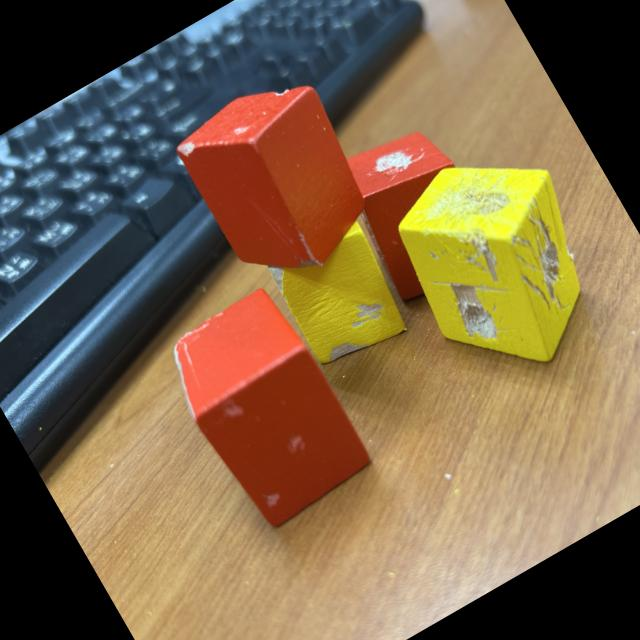broken: (371, 124, 631, 401), (153, 281, 380, 536), (168, 63, 392, 300), (326, 113, 505, 309), (254, 196, 419, 376)
